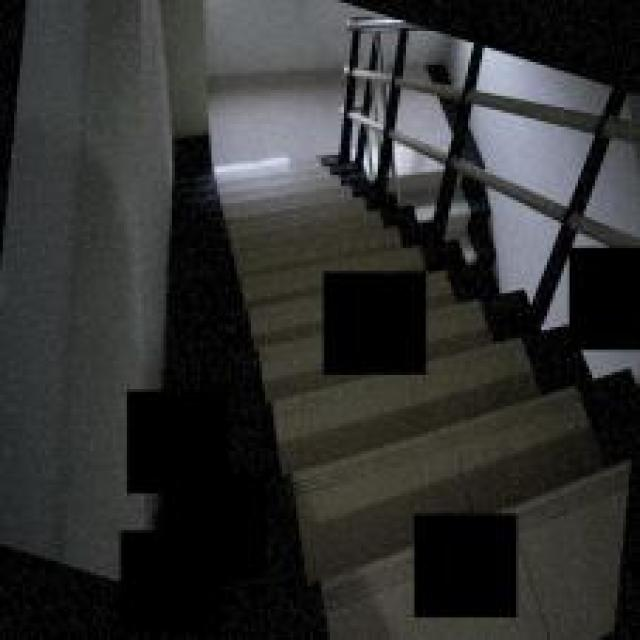downstair: (175, 169, 383, 254)
